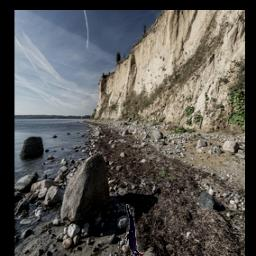Woodpecker: (125, 204, 144, 256)
